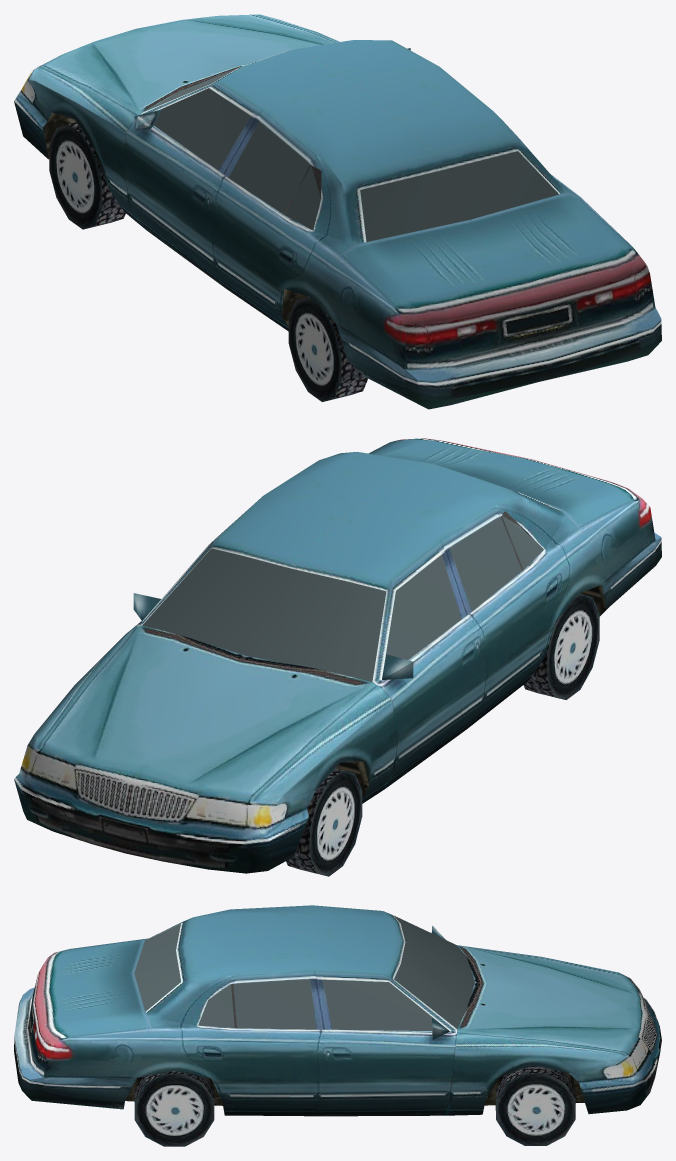
Rendered from p54_05_sedan_90s_teal.glb.
3 views of the same model, one above another, from view 1: azimuth 30°, elevation 25°; view 2: azimuth 150°, elevation 25°; view 3: azimuth 270°, elevation 25° (orthographic). The views are drawn at different scales.
Visible parts, largest first — view 1: Body, Glass; view 2: Body, Glass; view 3: Body, Glass.
Boxes of the visible parts, x1,y1,x2,y2 form: Body: [14, 14, 661, 409]; Glass: [144, 68, 558, 241]; Body: [14, 438, 661, 876]; Glass: [142, 516, 543, 681]; Body: [14, 905, 661, 1146]; Glass: [134, 915, 474, 1030].
Size of the model in its own units: 2 by 1.53 by 5.34.
2 materials, 2 textured.
